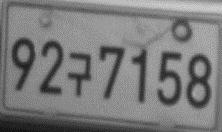1: (128, 48, 155, 103)
2: (39, 38, 62, 95)
5: (157, 51, 182, 106)
7: (99, 45, 125, 99)
8: (185, 53, 212, 109)
9: (11, 36, 36, 91)
구: (66, 50, 92, 96)
